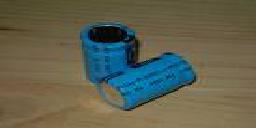Electrolytic-Capacitor: (102, 51, 203, 107), (80, 18, 142, 75)
